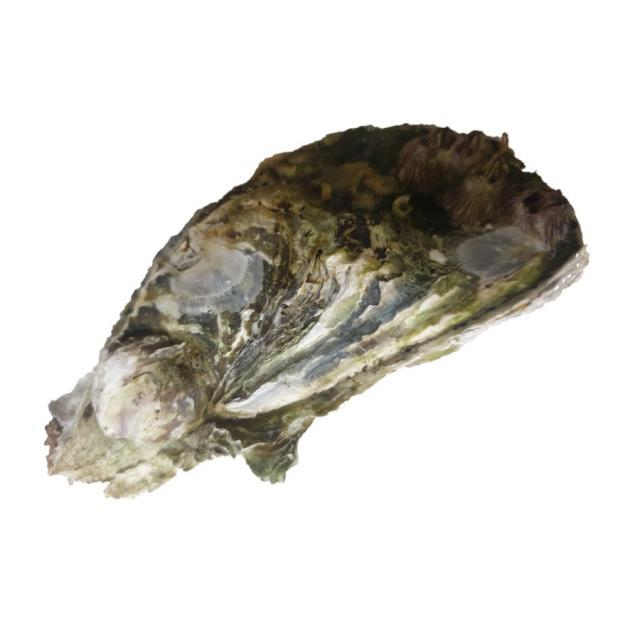Oyster- Indeterminate: (44, 125, 591, 503)
